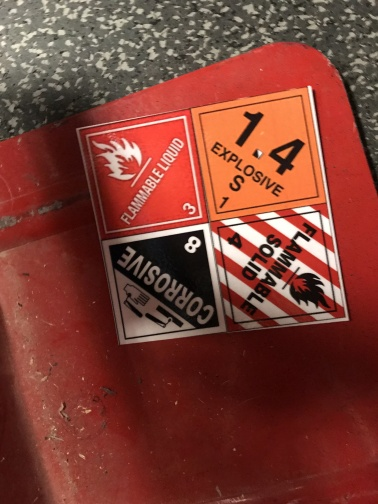Corrosive: (100, 223, 227, 342)
Explosive: (191, 87, 327, 220)
FlammableLiquid: (76, 110, 209, 239)
FlammableSolid: (209, 204, 347, 331)
